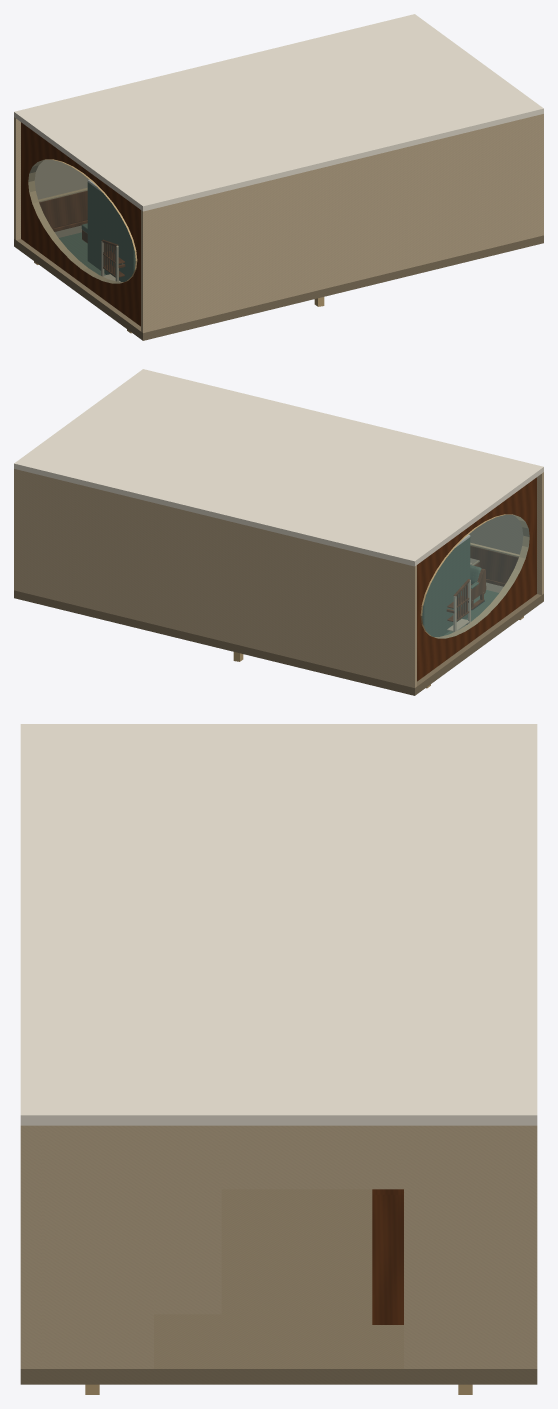
Rendered from NG494_AtriumInterior_r001.glb.
3 views of the same model, one above another, from view 1: azimuth 30°, elevation 25°; view 2: azimuth 150°, elevation 25°; view 3: azimuth 270°, elevation 25° (orthographic). The views are drawn at different scales.
Visible parts, largest first — view 1: NG494_RuntimeBatch_001, NG494_OvalAtriumGlass, NG494_RuntimeBatch_002, NG494_RoomFloor, NG494_RuntimeBatch_006, NG494_RuntimeBatch_004, NGA_494_South_LowPanel, NGA_494_OutlookFloorInlay, NG494_RuntimeBatch_017; view 2: NG494_RuntimeBatch_001, NG494_OvalAtriumGlass, NG494_RuntimeBatch_002, NG494_RoomFloor, NG494_RuntimeBatch_006, NG494_RuntimeBatch_004, NGA_494_North_LowPanel, NG494_RuntimeBatch_017; view 3: NG494_RuntimeBatch_001, NG494_RoomFloor, NG494_RuntimeBatch_002.
Boxes of the visible parts, <box> form: NG494_RuntimeBatch_001: <box>14,14,543,332</box>; NG494_OvalAtriumGlass: <box>28,160,135,283</box>; NG494_RuntimeBatch_002: <box>21,122,140,326</box>; NG494_RoomFloor: <box>14,225,543,340</box>; NG494_RuntimeBatch_006: <box>87,182,135,281</box>; NG494_RuntimeBatch_004: <box>28,159,324,333</box>; NGA_494_South_LowPanel: <box>39,191,87,228</box>; NGA_494_OutlookFloorInlay: <box>59,232,105,275</box>; NG494_RuntimeBatch_017: <box>101,239,125,277</box>; NG494_RuntimeBatch_001: <box>14,369,543,687</box>; NG494_OvalAtriumGlass: <box>422,515,529,638</box>; NG494_RuntimeBatch_002: <box>417,477,536,681</box>; NG494_RoomFloor: <box>14,582,543,695</box>; NG494_RuntimeBatch_006: <box>422,537,470,636</box>; NG494_RuntimeBatch_004: <box>233,514,529,688</box>; NGA_494_North_LowPanel: <box>470,546,518,583</box>; NG494_RuntimeBatch_017: <box>446,579,469,621</box>; NG494_RuntimeBatch_001: <box>20,724,537,1368</box>; NG494_RoomFloor: <box>20,1189,537,1384</box>; NG494_RuntimeBatch_002: <box>372,1189,403,1324</box>.
Size of the model in its own units: 12.9 by 4.91 by 7.2.
36 materials, 20 textured.
